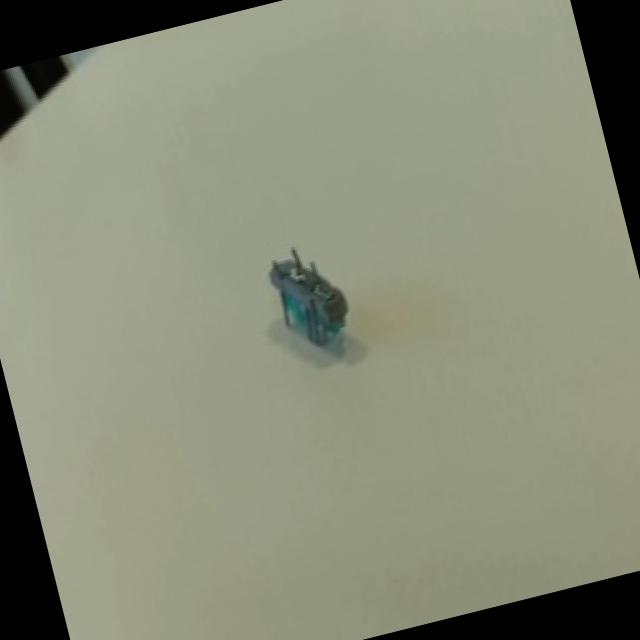5_NanoBug_GrisClaro: (248, 201, 366, 379)
